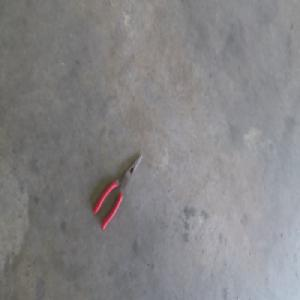Pliers: (93, 150, 142, 225)
